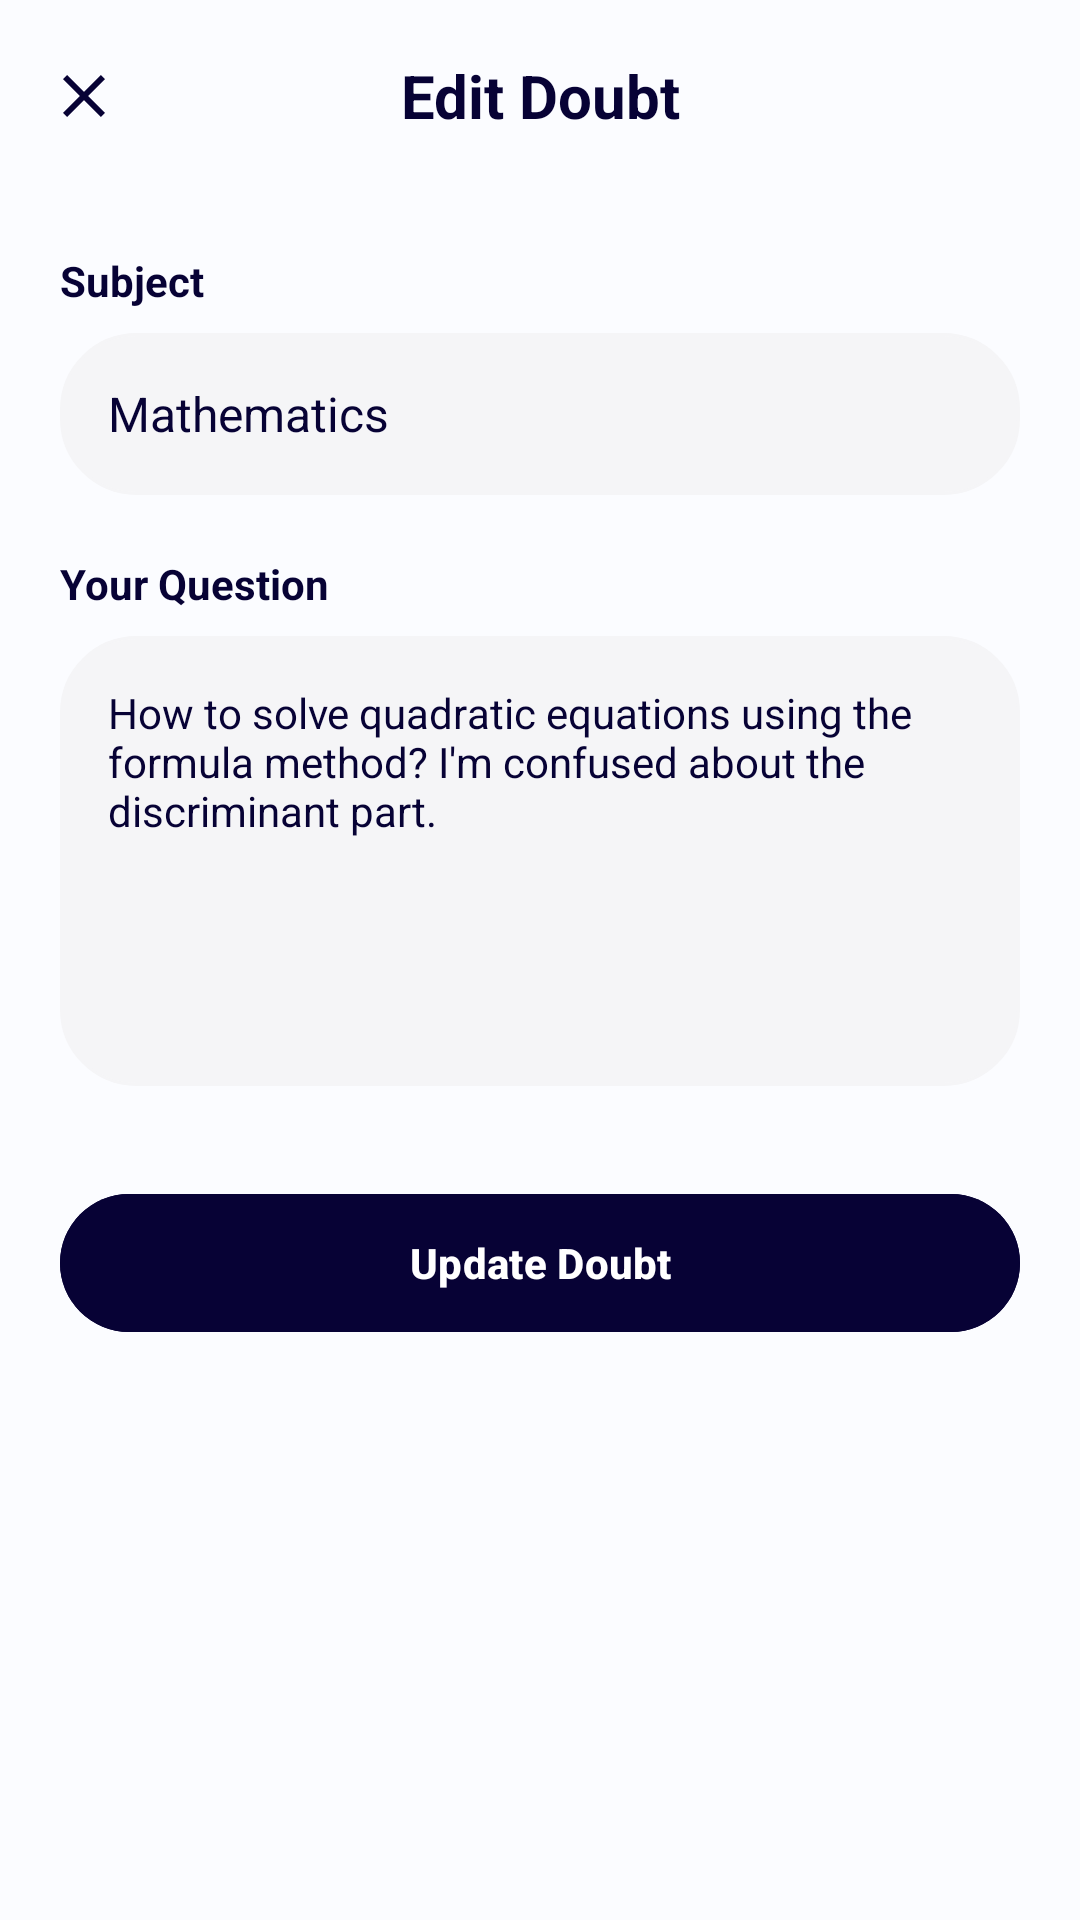

Point at icon controls on the screen. Image size 1080×1920, points as point (x, y).
close: point (84, 96)
